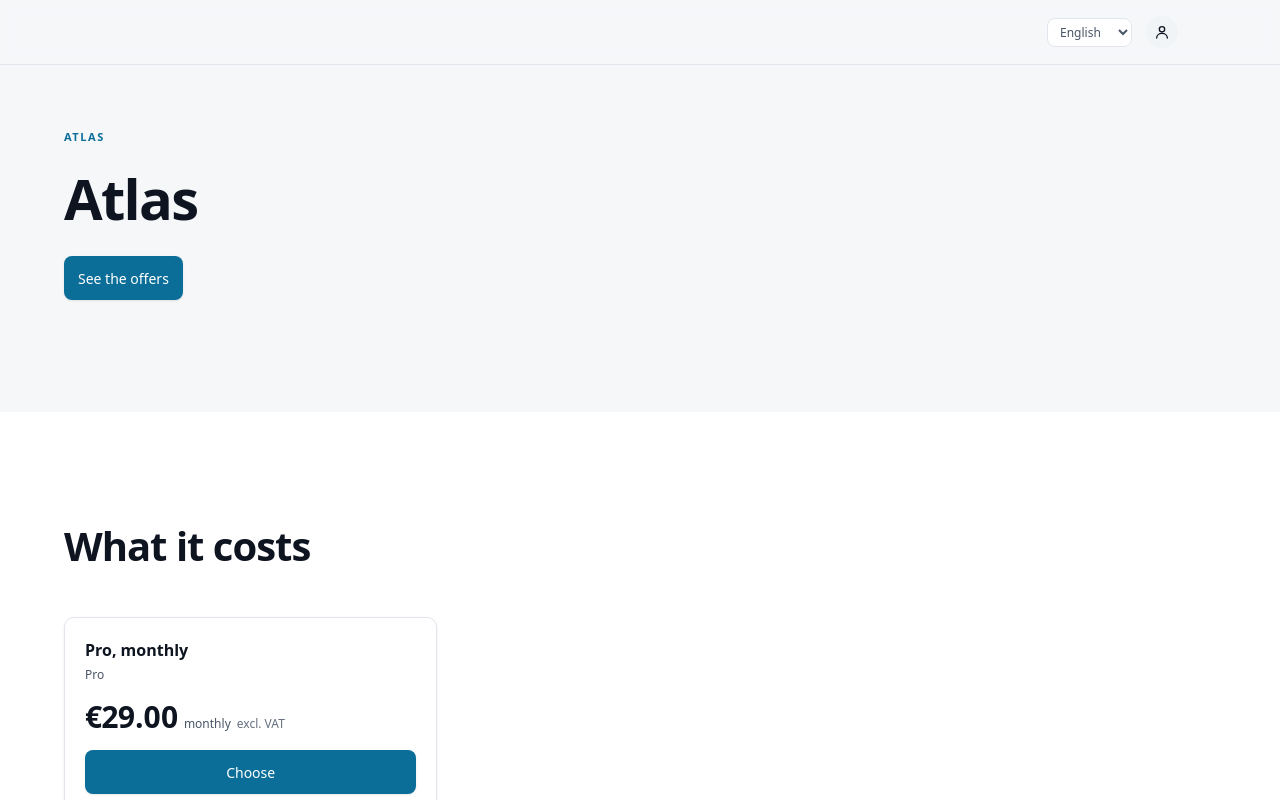
the shop window › keeps signing in secondary, not the front door
Click the button with test id "visitor-menu".
click(1162, 32)  # box left=1140, top=10, right=1184, bottom=54
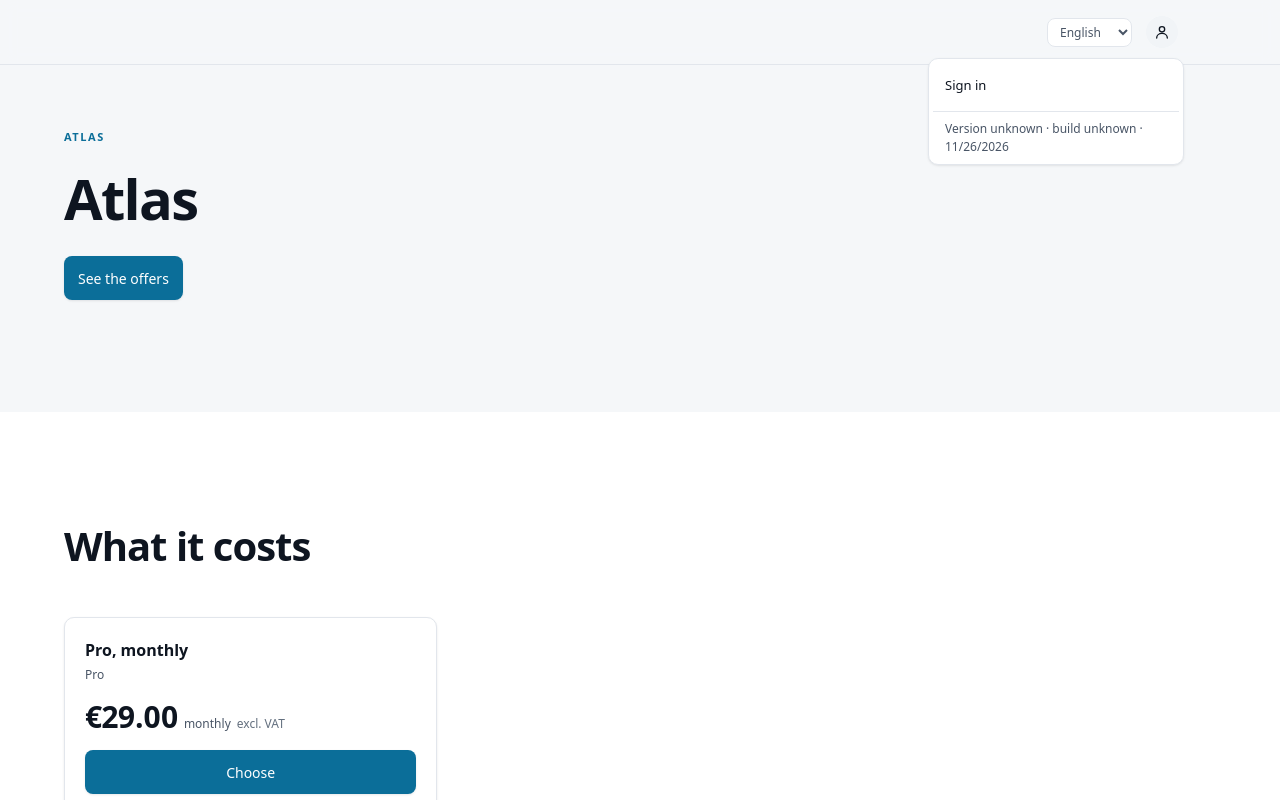
Click the menu item with test id "sign-in-link".
click(1056, 85)  # box left=933, top=63, right=1179, bottom=107
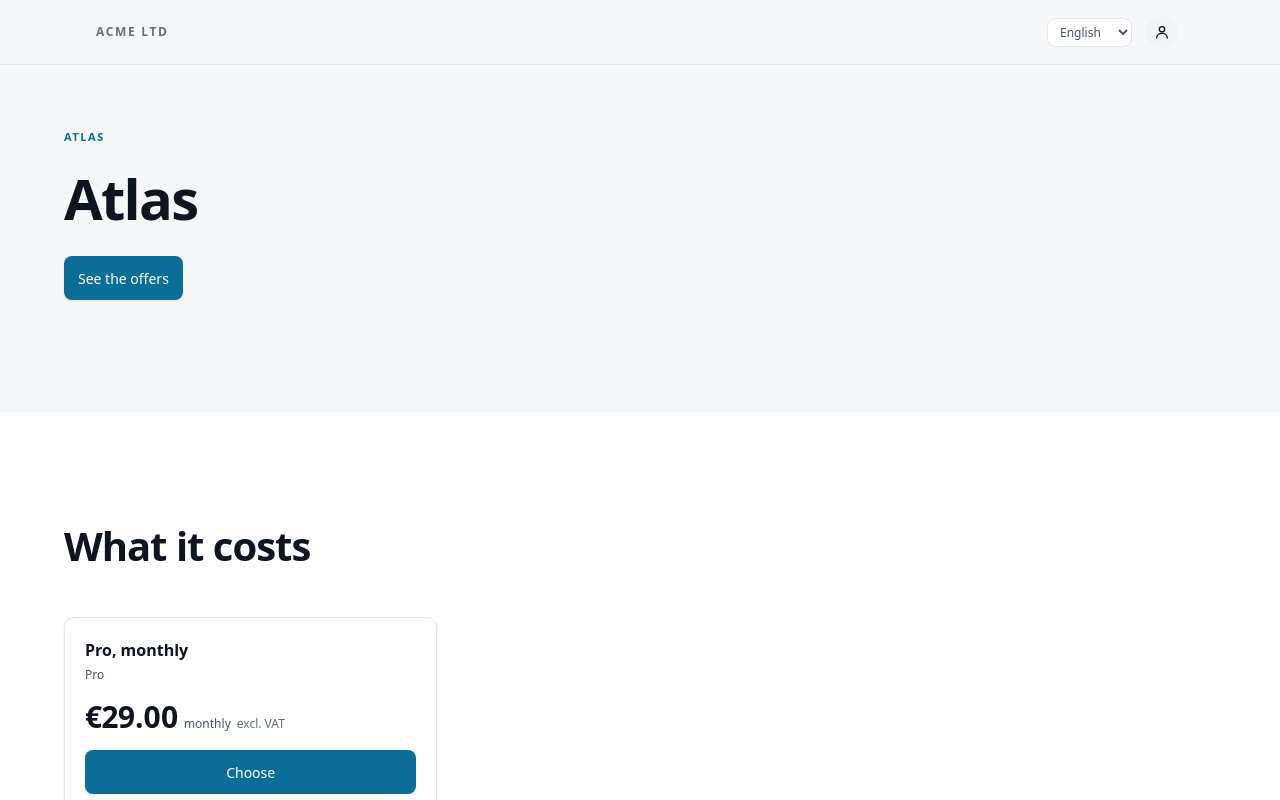
Expected: the menu with test id "visitor-menu-panel" is gone
